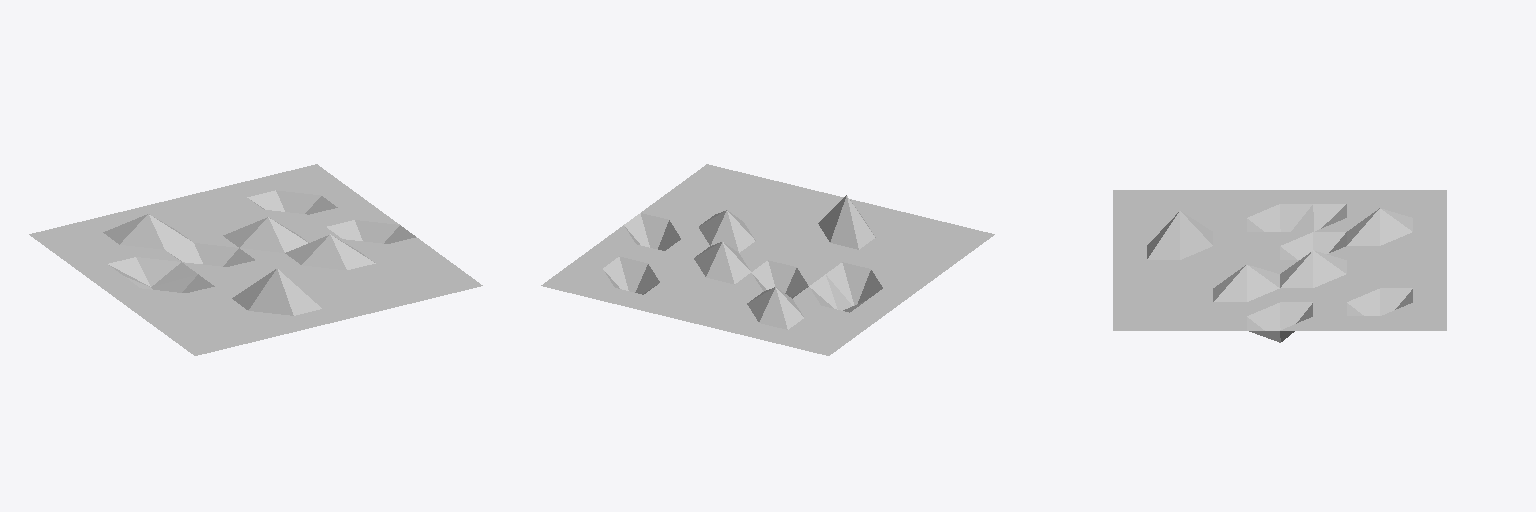
Rendered from pan1.obj.
The picture shows the model from 3 angles: view 1: azimuth 30°, elevation 25°; view 2: azimuth 150°, elevation 25°; view 3: azimuth 270°, elevation 25°; orthographic projection.
Visible parts, largest first — view 1: pPlane2; view 2: pPlane2; view 3: pPlane2.
Boxes of the visible parts, box(x1,y1,x2,y2) form: pPlane2: box(29, 164, 482, 355); pPlane2: box(541, 164, 994, 355); pPlane2: box(1113, 190, 1446, 342).
Size of the model in its own units: 20 by 4.16 by 20.